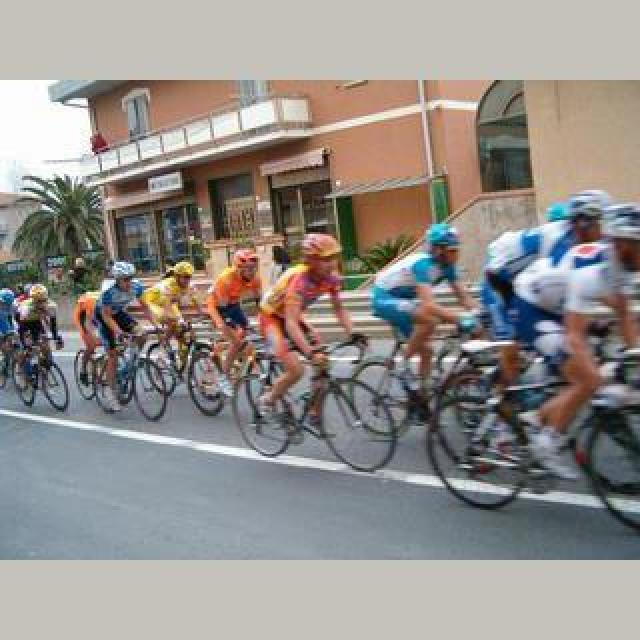MC-Bike: (258, 234, 360, 444), (382, 220, 482, 424), (100, 264, 172, 398), (206, 246, 264, 392), (146, 260, 196, 374), (14, 284, 62, 400), (98, 266, 150, 348)
Person: (426, 324, 640, 520), (230, 330, 400, 470), (348, 318, 488, 442), (202, 252, 264, 418), (76, 336, 168, 422), (146, 312, 222, 412), (12, 336, 68, 412)
